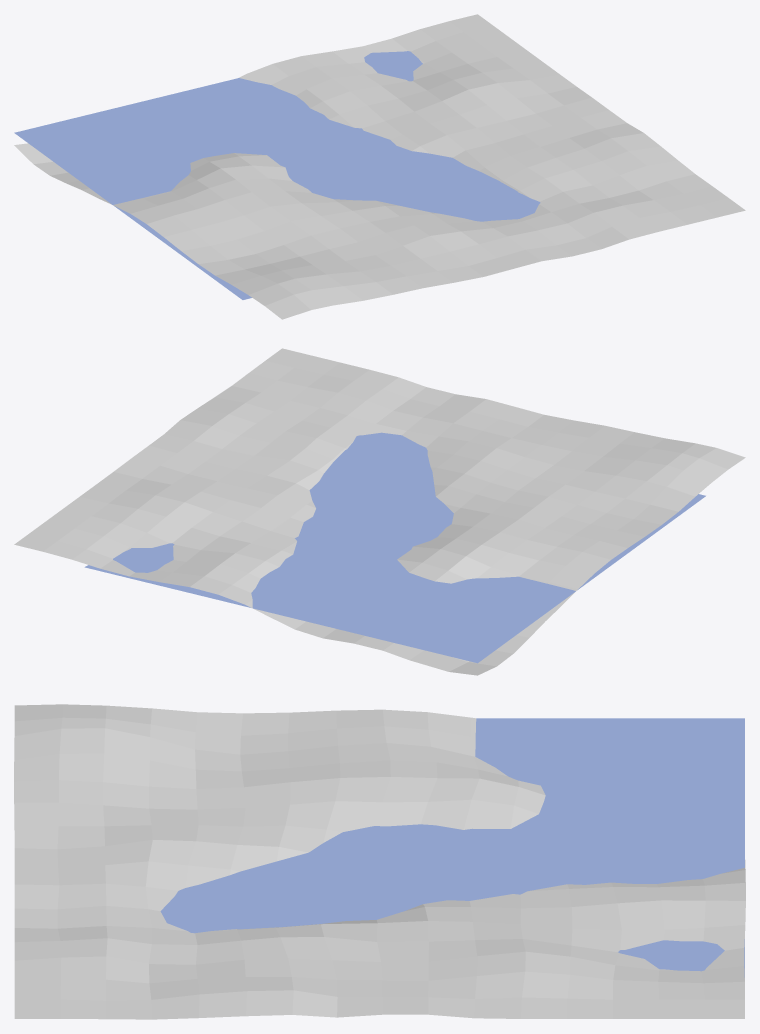
File: level3.fbx
3 views of the same model, one above another, from view 1: azimuth 30°, elevation 25°; view 2: azimuth 150°, elevation 25°; view 3: azimuth 270°, elevation 25° (orthographic). The views are drawn at different scales.
Visible parts, largest first — view 1: Snow_plane.002, ICE.002; view 2: Snow_plane.002, ICE.002; view 3: Snow_plane.002, ICE.002.
Part boxes in pixels (x1,y1,x2,y2): Snow_plane.002: [14, 14, 745, 319]; ICE.002: [14, 51, 540, 299]; Snow_plane.002: [14, 348, 745, 675]; ICE.002: [84, 432, 705, 663]; Snow_plane.002: [14, 704, 745, 1019]; ICE.002: [160, 718, 744, 977].
Bounding box in the file's own units: 2283 × 166 × 2290.
